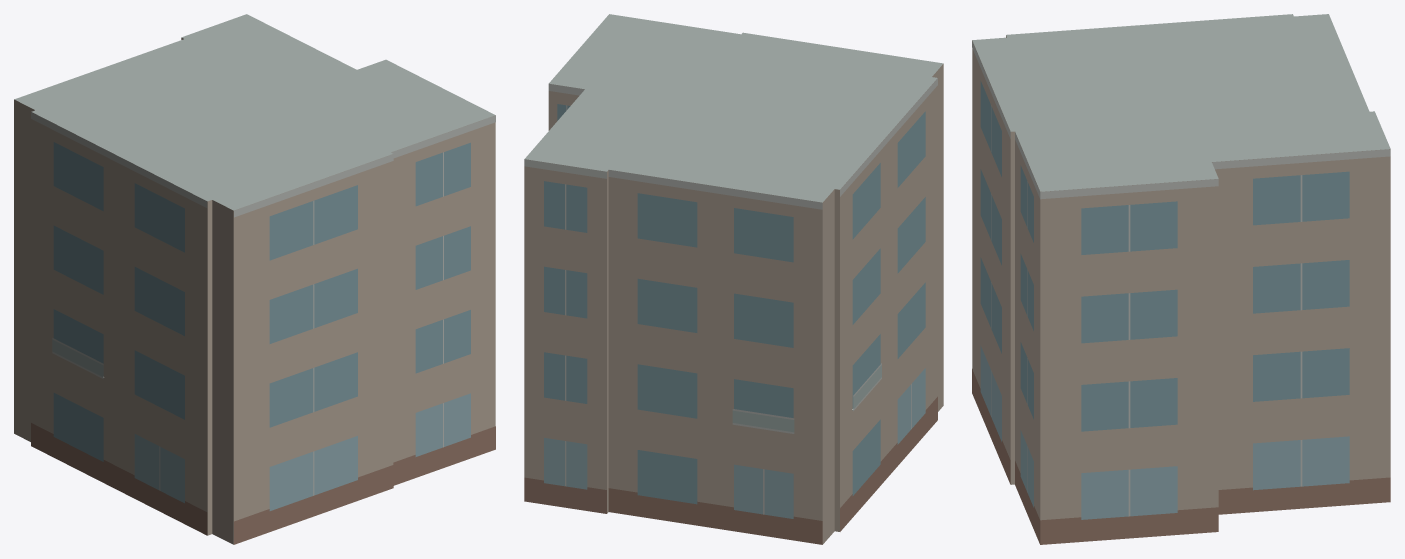
The model's file is survey-upis-33028105.glb.
3 renders of one model, left to right at view 1: azimuth 30°, elevation 25°; view 2: azimuth 150°, elevation 25°; view 3: azimuth 270°, elevation 25°, orthographic. The views are drawn at different scales.
Parts seen in each view (by area): view 1: survey-upis-33028105.tmp; view 2: survey-upis-33028105.tmp; view 3: survey-upis-33028105.tmp.
Boxes of the visible parts, x1,y1,x2,y2 form: survey-upis-33028105.tmp: (14,14,495,544); survey-upis-33028105.tmp: (524,14,943,544); survey-upis-33028105.tmp: (972,14,1390,544).
Size of the model in its own units: 12.54 by 11.6 by 12.47.
